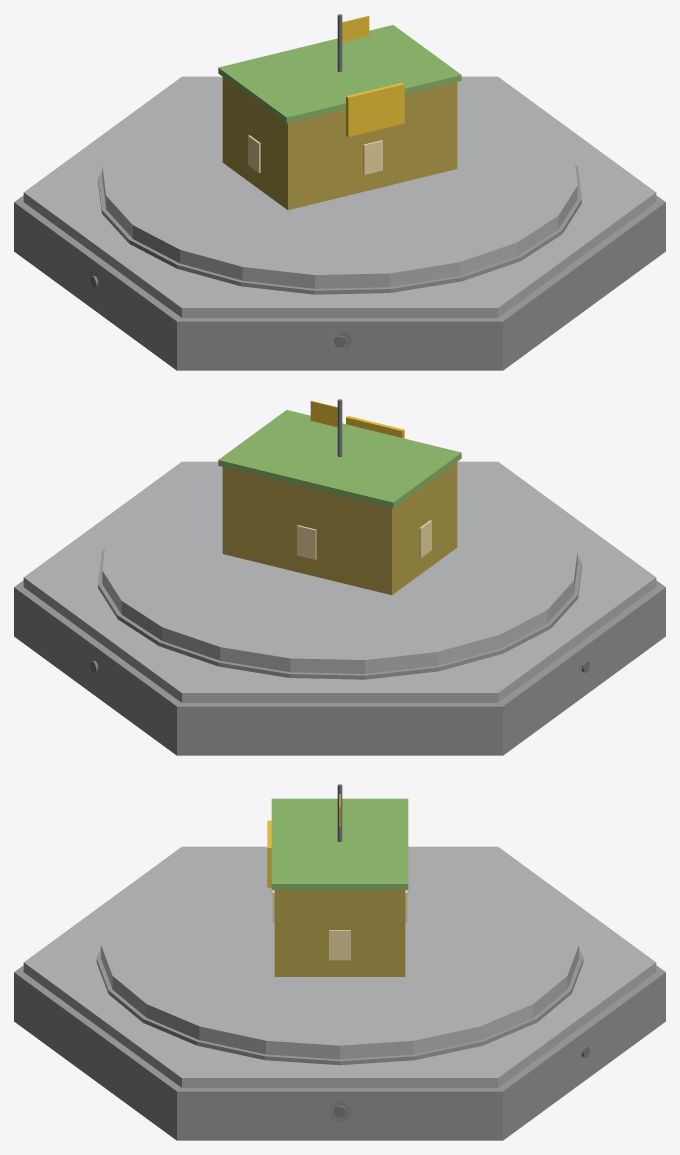
The model's file is exchange_s2_100.glb.
The picture shows the model from 3 angles, top to bottom: view 1: azimuth 30°, elevation 25°; view 2: azimuth 150°, elevation 25°; view 3: azimuth 270°, elevation 25°; orthographic projection.
Parts seen in each view (by area): view 1: EX_Base; view 2: EX_Base; view 3: EX_Base.
Part boxes in pixels (<box>): EX_Base: <box>14,14,665,370</box>; EX_Base: <box>14,399,665,755</box>; EX_Base: <box>14,784,665,1140</box>.
Bounding box in the file's own units: 5.25 × 2.4 × 6.
